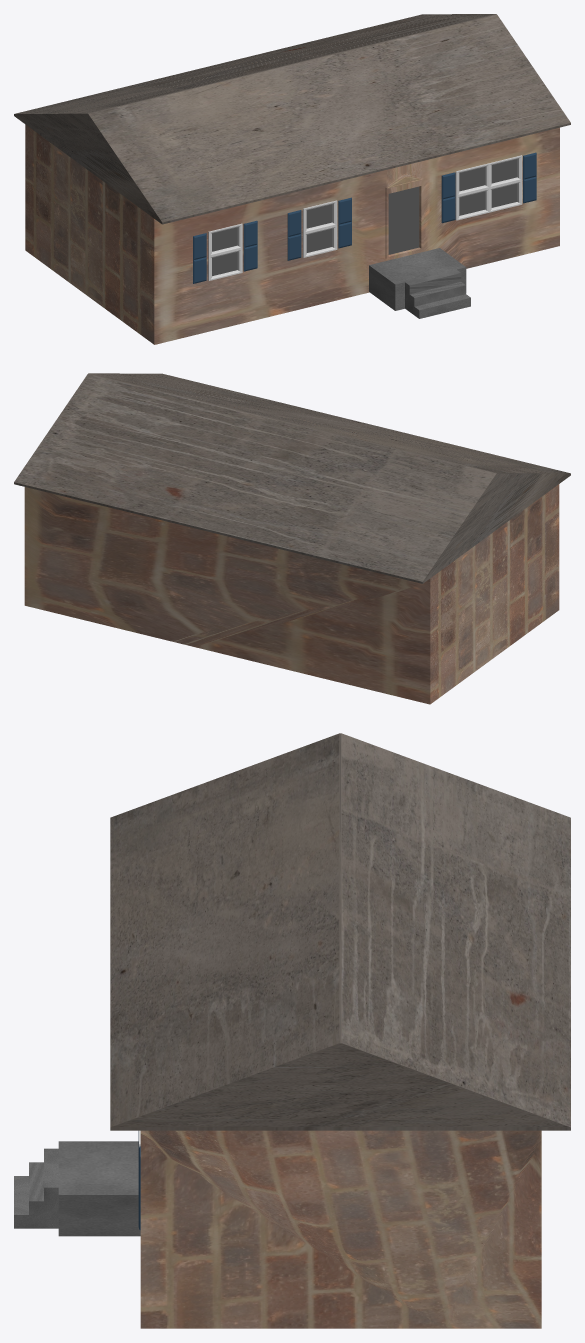
The model's file is house1.glb.
3 renders of one model, top to bottom at view 1: azimuth 30°, elevation 25°; view 2: azimuth 150°, elevation 25°; view 3: azimuth 270°, elevation 25°, orthographic. The views are drawn at different scales.
Visible parts, largest first — view 1: Cube.012, Cube, Cube.002, Cube.001, Plane.002, Plane.003, Cube.011, Plane, Plane.001, Cube.010, Cube.009, Cube.004 (+5 smaller); view 2: Cube, Cube.012; view 3: Cube.012, Cube, Cube.002, Cube.001.
Part boxes in pixels (bbox=[...]): Cube.012: bbox=[14, 14, 570, 224]; Cube: bbox=[25, 124, 559, 344]; Cube.002: bbox=[369, 248, 466, 310]; Cube.001: bbox=[405, 269, 470, 318]; Plane.002: bbox=[459, 159, 517, 215]; Plane.003: bbox=[388, 186, 419, 254]; Cube.011: bbox=[456, 155, 522, 220]; Plane: bbox=[306, 204, 332, 252]; Plane.001: bbox=[212, 227, 237, 276]; Cube.010: bbox=[208, 223, 242, 280]; Cube.009: bbox=[303, 200, 337, 257]; Cube.004: bbox=[287, 210, 301, 260]; Cube: bbox=[24, 484, 559, 704]; Cube.012: bbox=[14, 373, 570, 583]; Cube.012: bbox=[110, 733, 570, 1130]; Cube: bbox=[140, 1130, 541, 1328]; Cube.002: bbox=[58, 1141, 140, 1236]; Cube.001: bbox=[14, 1148, 58, 1228].
Size of the model in its own units: 3.66 by 1.58 by 2.78.
Materials: 6 (3 with a texture image).
